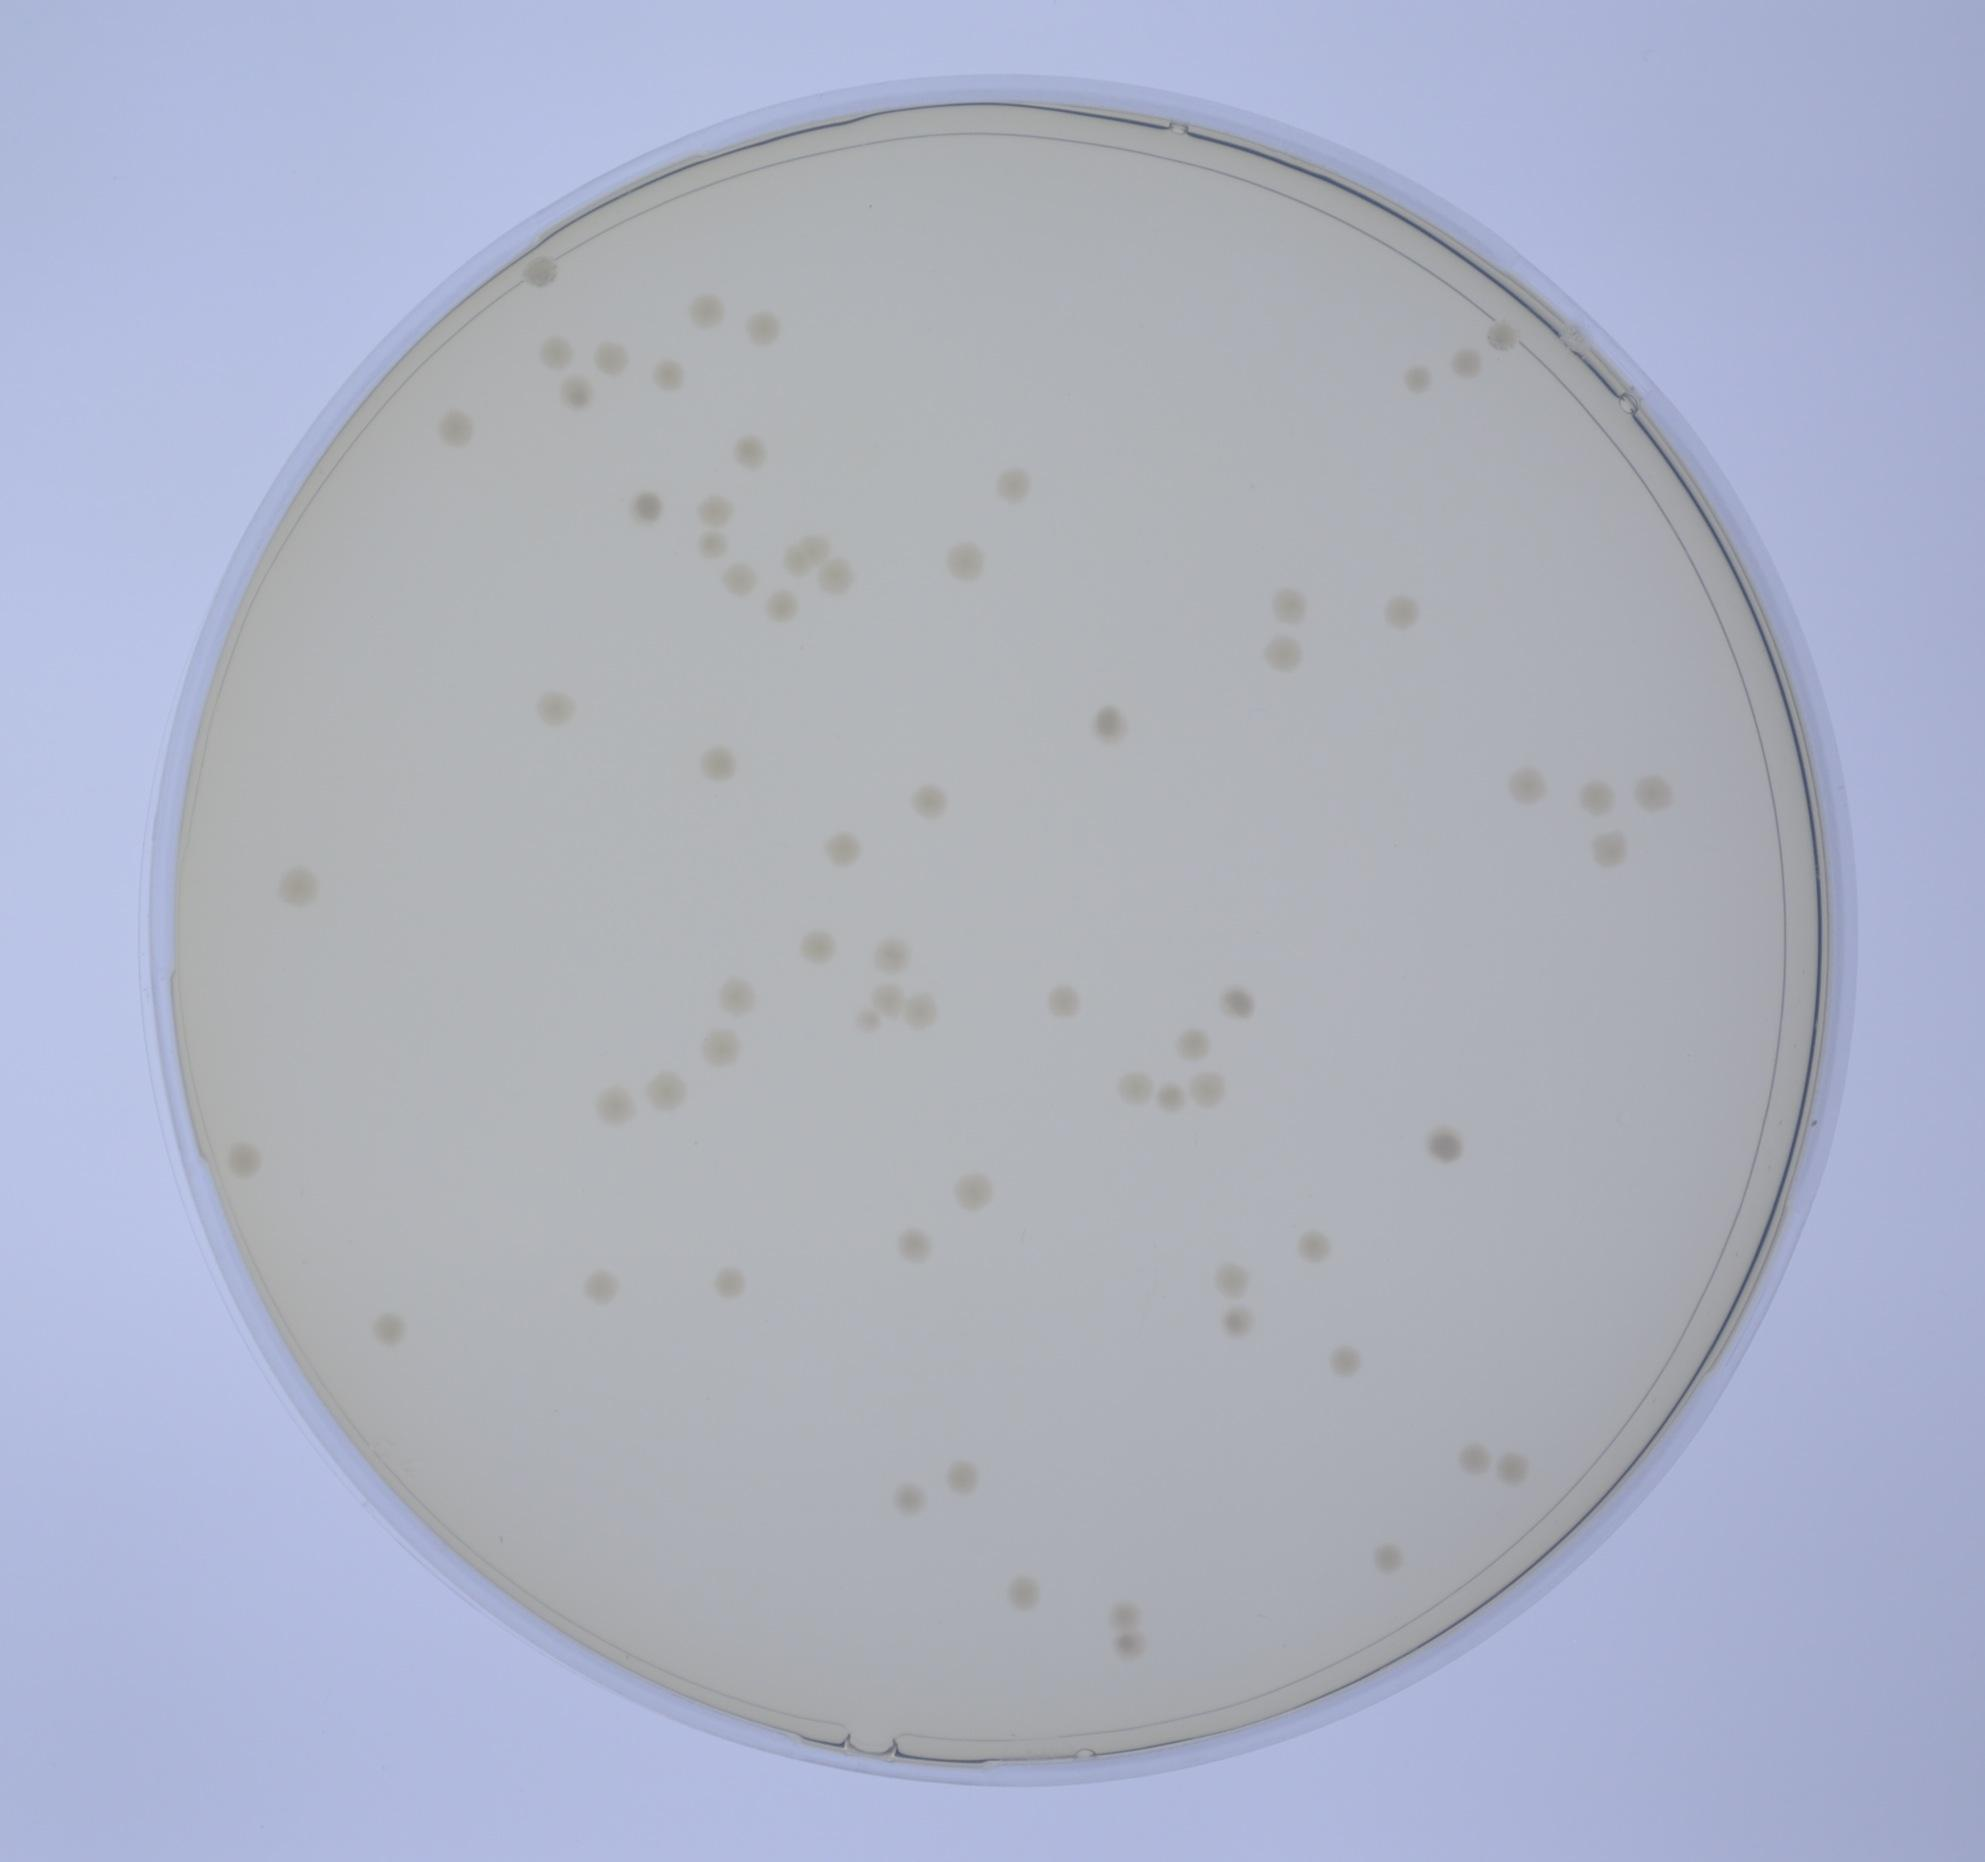colony: (357, 1300, 418, 1358), (273, 856, 329, 913), (425, 399, 481, 453), (530, 681, 588, 731), (945, 1162, 1000, 1214), (903, 772, 956, 824), (215, 1132, 266, 1186), (578, 1256, 627, 1311), (936, 539, 992, 586), (1420, 1120, 1470, 1171), (739, 301, 789, 352), (516, 247, 567, 297), (590, 1078, 642, 1127), (641, 1064, 693, 1113), (865, 929, 917, 978), (691, 1022, 740, 1071), (711, 971, 760, 1020), (816, 824, 863, 873), (1087, 702, 1134, 749), (620, 483, 667, 530), (1502, 761, 1551, 807), (1260, 632, 1304, 682), (754, 581, 805, 625), (532, 334, 583, 378), (1481, 310, 1526, 357), (1267, 583, 1315, 628), (1320, 1337, 1365, 1384), (1491, 1447, 1537, 1493), (1630, 772, 1677, 815), (891, 1220, 938, 1263), (810, 553, 858, 597), (896, 987, 940, 1034), (1208, 1256, 1253, 1300), (691, 486, 735, 532), (992, 462, 1036, 506), (1589, 828, 1631, 873), (1113, 1067, 1159, 1109), (886, 1472, 928, 1517), (551, 371, 597, 413), (938, 1456, 985, 1496), (695, 740, 742, 780), (684, 292, 732, 332), (642, 355, 690, 395), (711, 560, 760, 598), (1378, 593, 1421, 635), (1175, 1024, 1217, 1067), (588, 336, 632, 378), (870, 976, 910, 1022), (1442, 343, 1490, 381), (702, 1260, 749, 1298), (1581, 775, 1623, 817), (1189, 1069, 1231, 1111), (1453, 1435, 1497, 1475), (1001, 1568, 1042, 1612), (793, 926, 837, 966), (728, 432, 772, 471), (1364, 1536, 1409, 1573), (1218, 983, 1259, 1024), (1105, 1596, 1147, 1634), (1110, 1629, 1150, 1668), (1400, 360, 1442, 397), (1295, 1227, 1334, 1265), (1218, 1300, 1255, 1340), (1150, 1080, 1187, 1116), (779, 542, 814, 581), (1047, 982, 1080, 1020), (802, 528, 833, 563), (852, 1004, 884, 1034)
